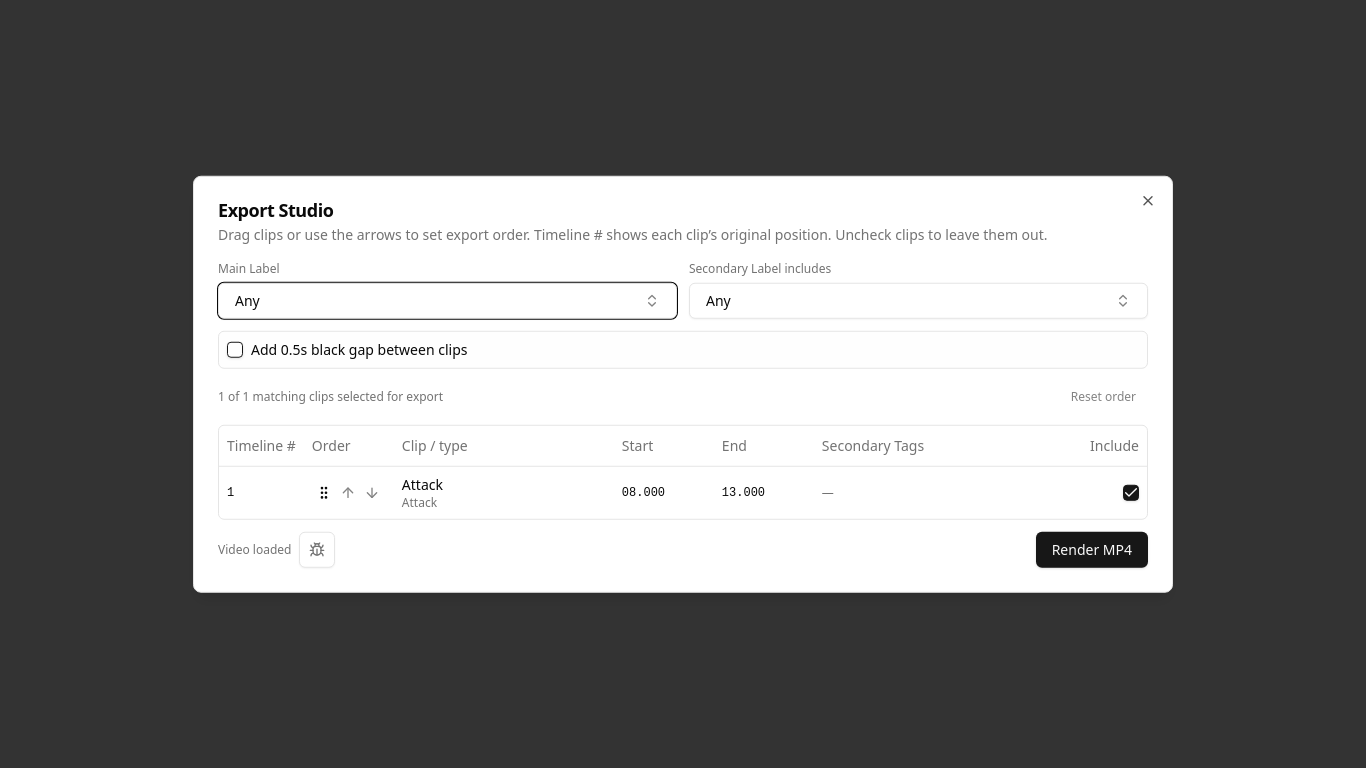
shows an estimate from rendering progress and clears it on cancellation and a new export
Click the button "Render MP4" at (1092, 549), box x1=1036 y1=531 x2=1148 y2=567
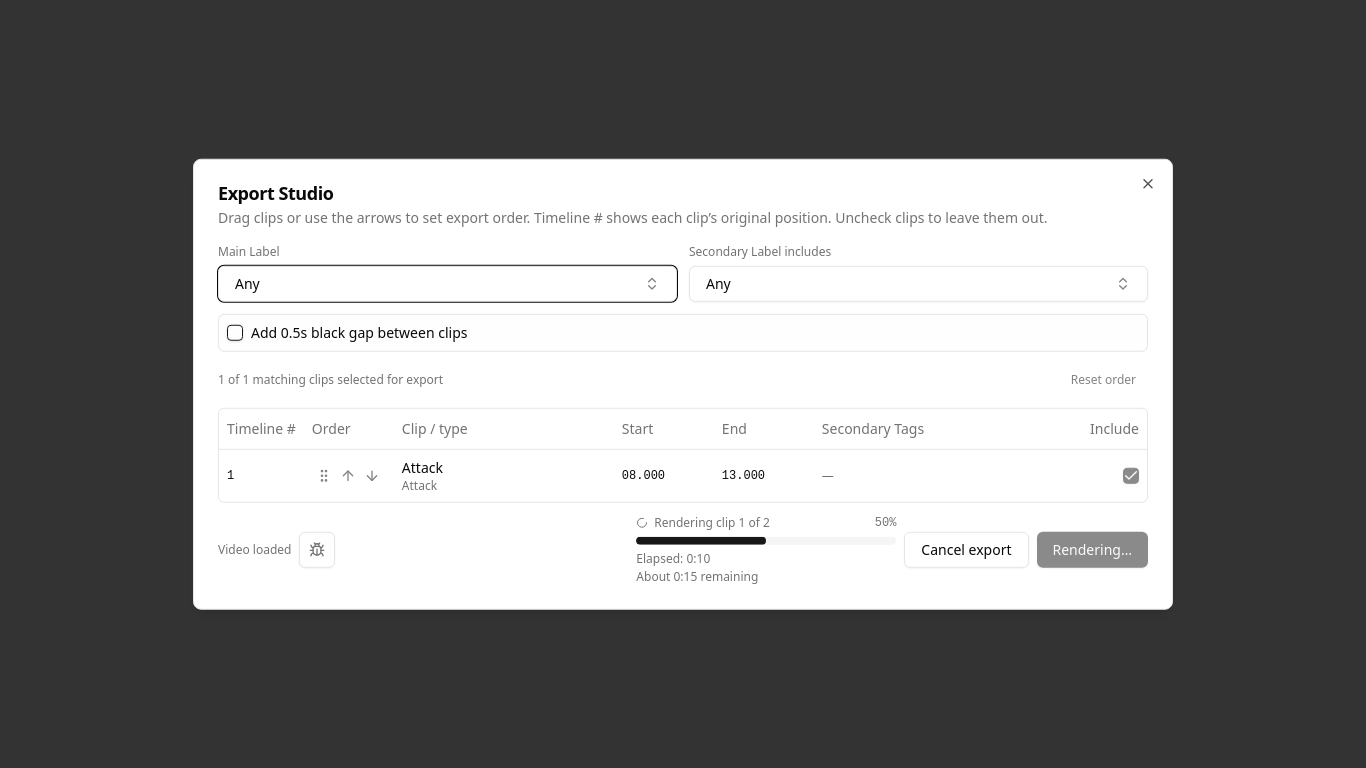
Now the text "Elapsed: 0:10" is shown, box x1=636 y1=549 x2=710 y2=566
Now the text "About 0:15 remaining" is shown, box x1=636 y1=567 x2=758 y2=584
Click the button "Cancel export" at (966, 549), box x1=904 y1=531 x2=1028 y2=567
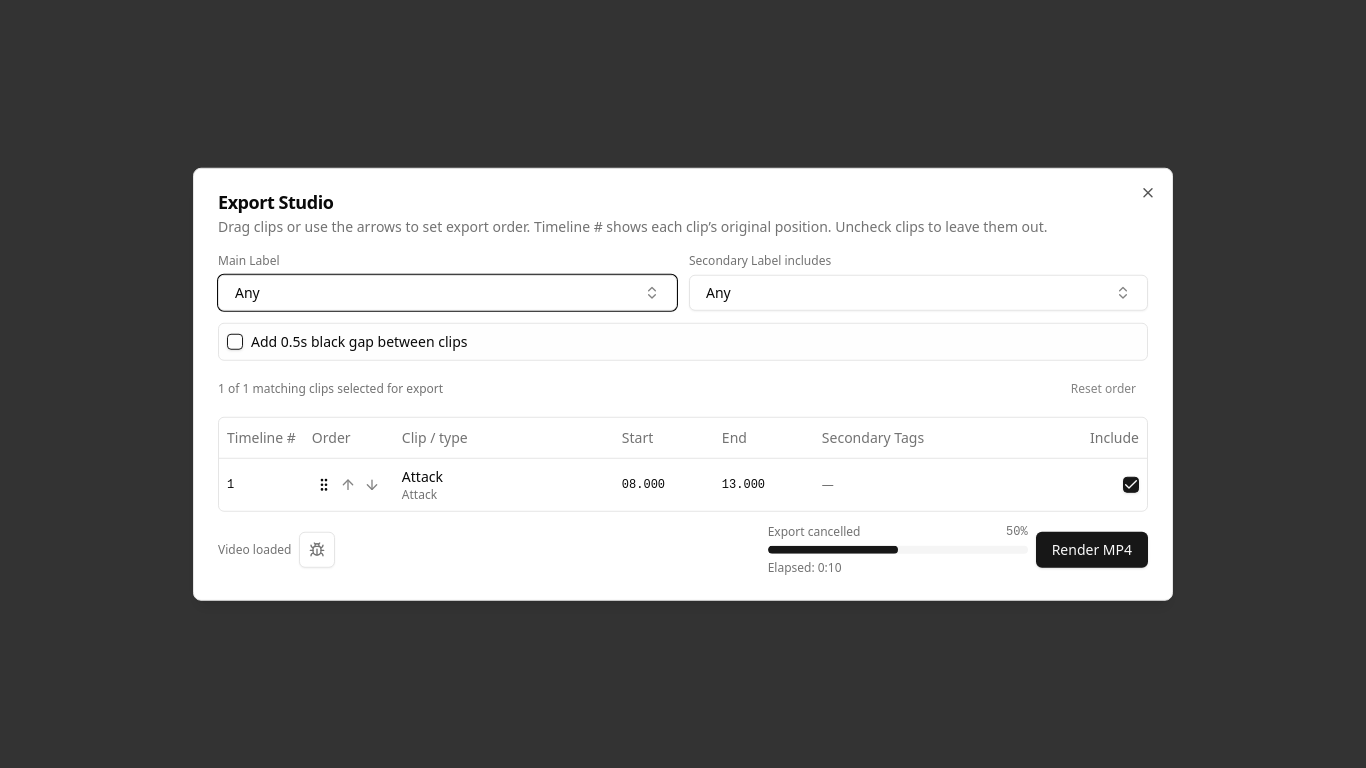
Now the text "Export cancelled" is shown, box x1=768 y1=523 x2=860 y2=539
Now the text "remaining" is gone
Click the button "Render MP4" at (1092, 549), box x1=1036 y1=531 x2=1148 y2=567
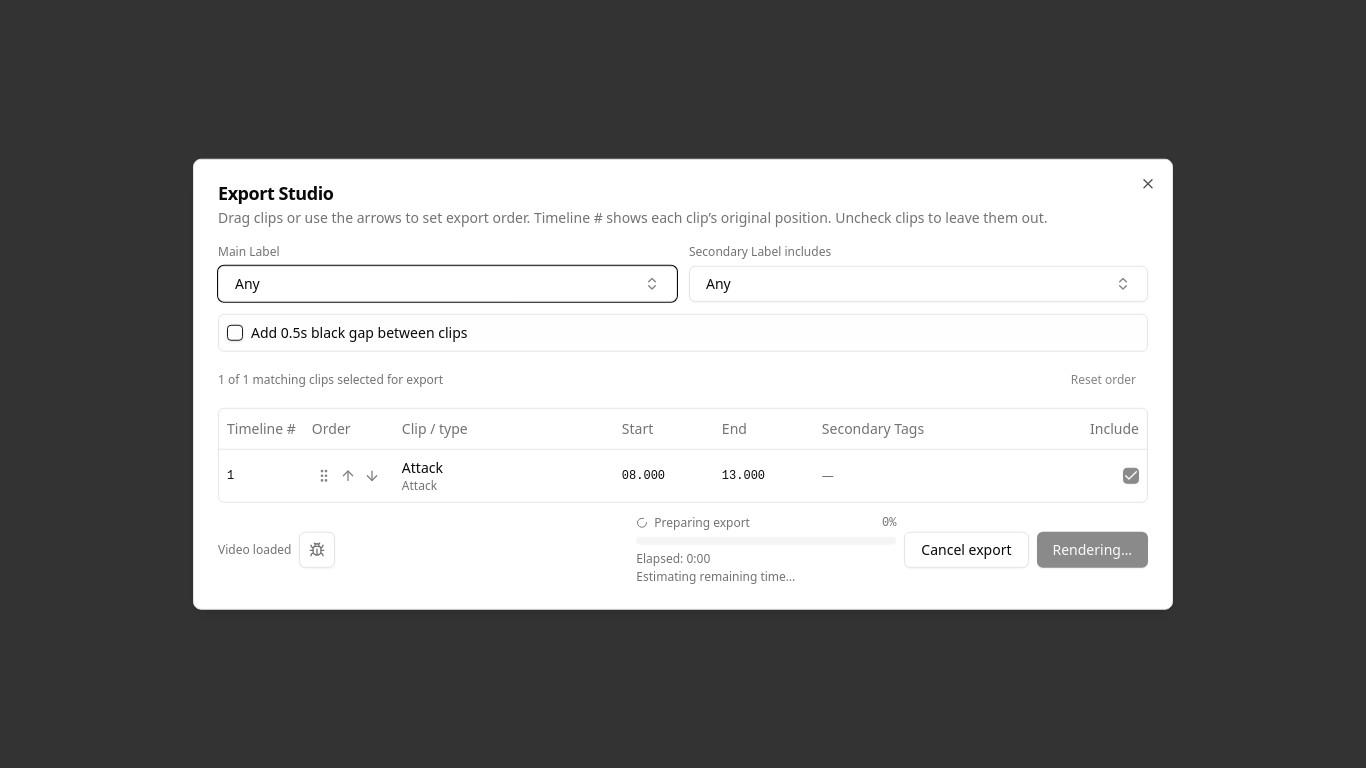
Now the text "Elapsed: 0:00" is shown, box x1=636 y1=549 x2=710 y2=566
Now the text "Estimating remaining time…" is shown, box x1=636 y1=567 x2=795 y2=584
Click the button "Cancel export" at (966, 549), box x1=904 y1=531 x2=1028 y2=567
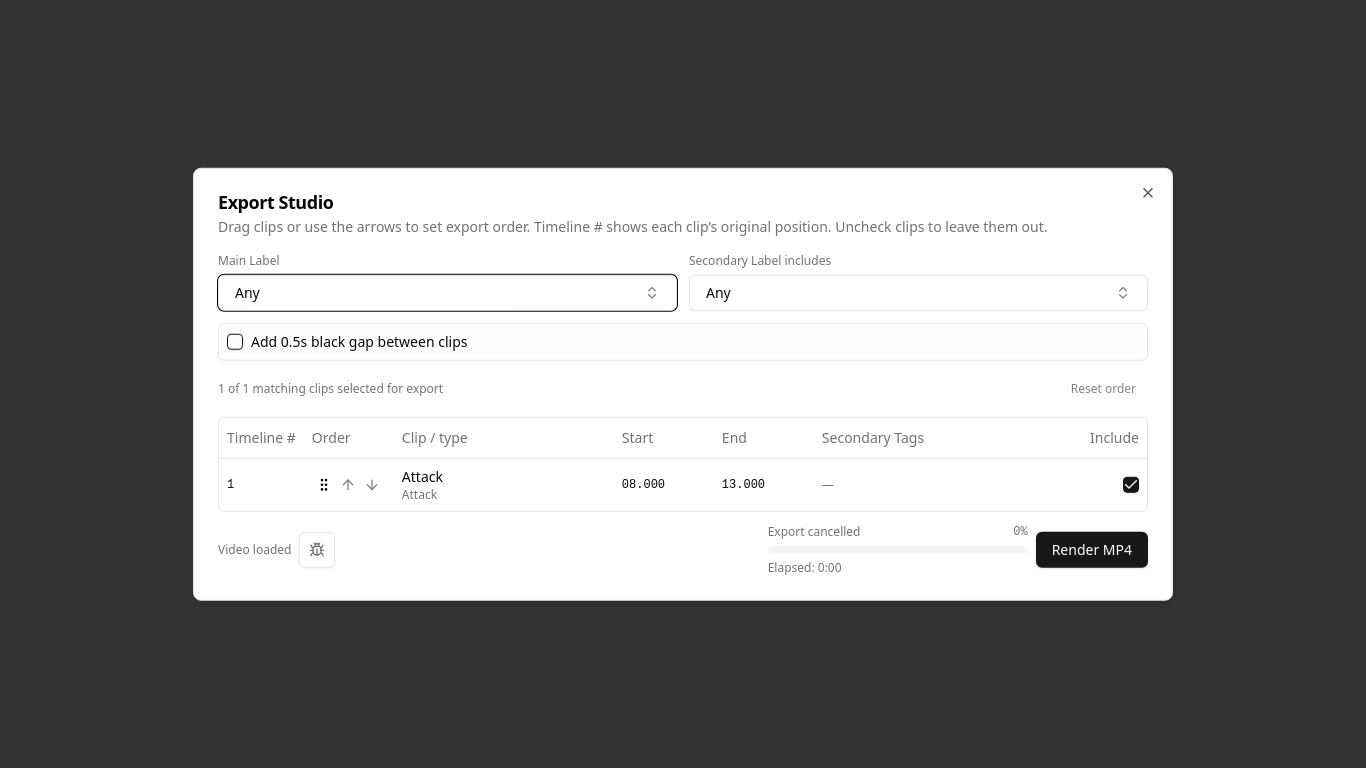
Now the text "Export cancelled" is shown, box x1=768 y1=523 x2=860 y2=539
